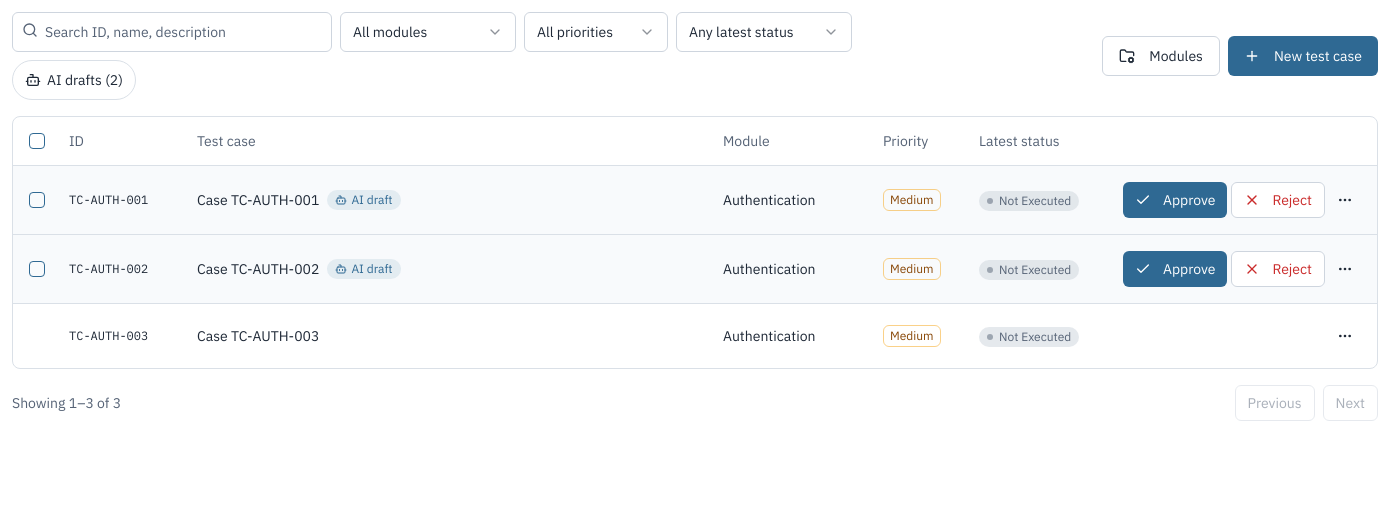
CasesView — AI drafts › bulk approves the selection and reports the drafts that failed
Click the checkbox named "Select all AI drafts on this page" at point(37, 141), box [29,133,45,149]
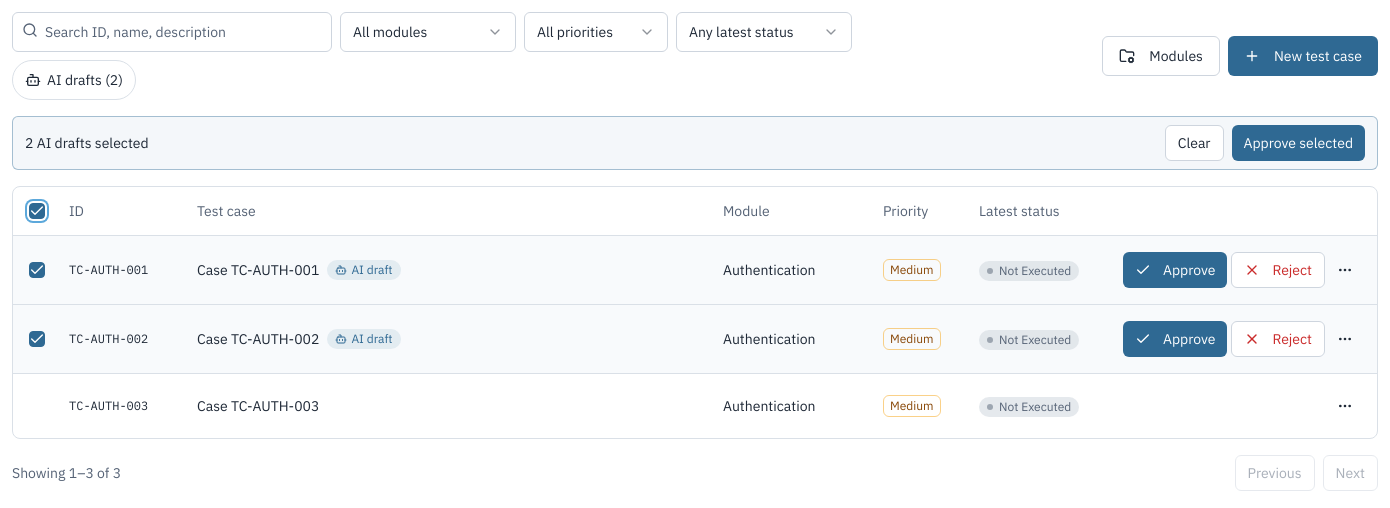
Result: the text "2 AI drafts selected" is shown at [25,133,149,153]
Click the button "Approve selected" at point(1298, 143), box [1232,125,1365,161]
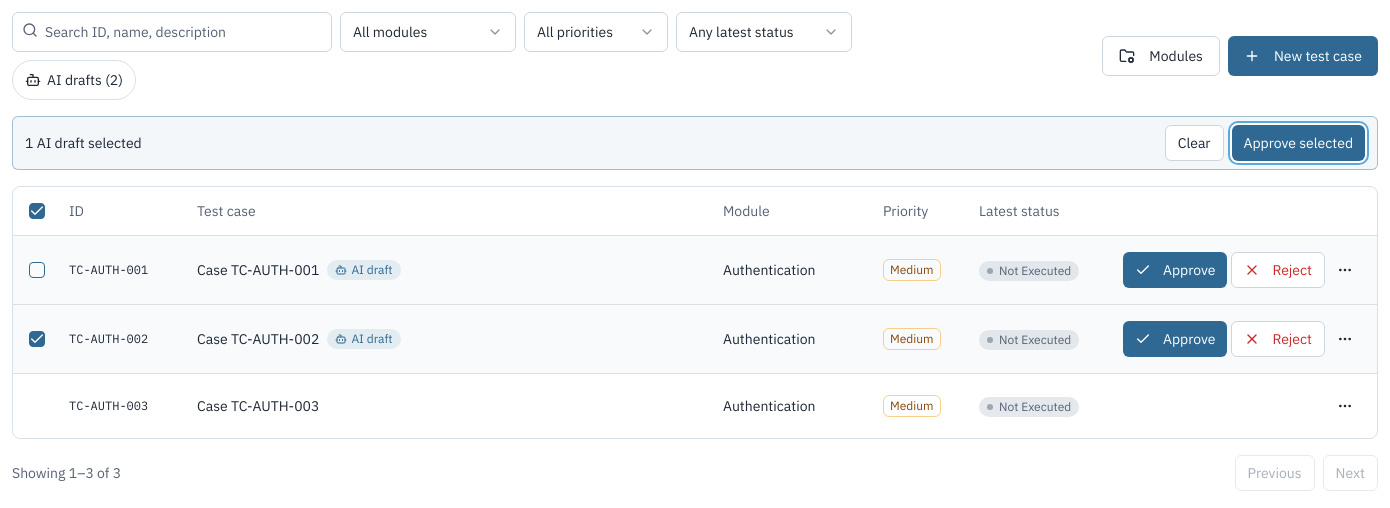
Result: the checkbox named "Select TC-AUTH-002" is checked at [29,330,45,346]
Result: the text "1 AI draft selected" is shown at [25,133,142,153]
